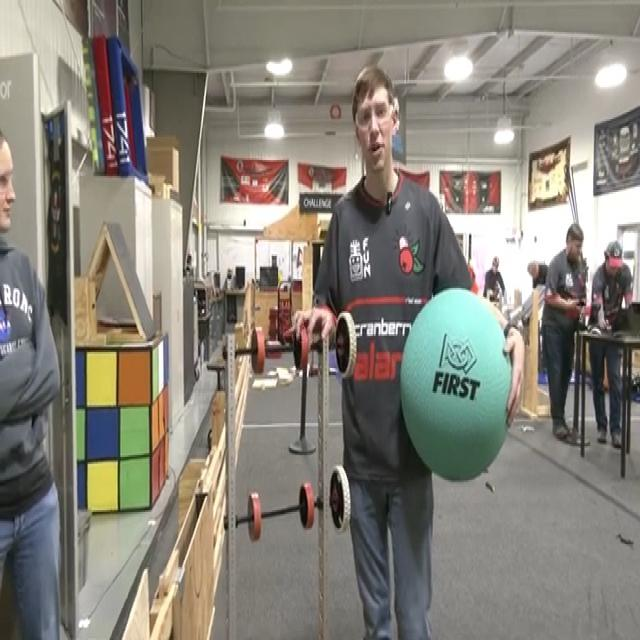Algae: (398, 284, 513, 482)
